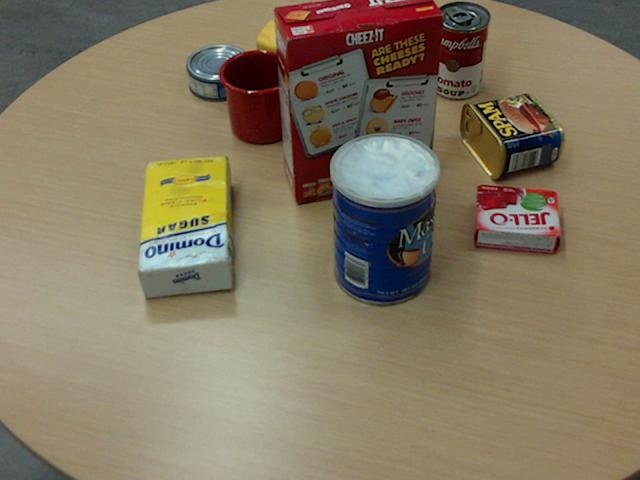cracker_box: (273, 0, 443, 201)
gelatin_box: (473, 183, 559, 251)
large_marker: (393, 35, 413, 125)
master_chef_can: (329, 132, 439, 305)
mug: (218, 49, 311, 143)
mustard_bottle: (255, 10, 400, 88)
potted_meat_can: (458, 93, 563, 178)
sugar_box: (136, 154, 231, 297)
tomato_soup_can: (431, 1, 490, 97)
tuna_fish_can: (185, 42, 251, 99)
